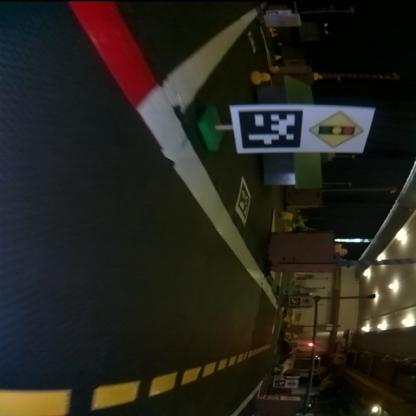Duckie: (252, 72, 272, 83), (336, 245, 346, 255), (314, 75, 322, 80), (279, 55, 283, 59)
QR code: (233, 107, 304, 150), (235, 180, 251, 225)
Signal sign: (310, 108, 369, 152)
